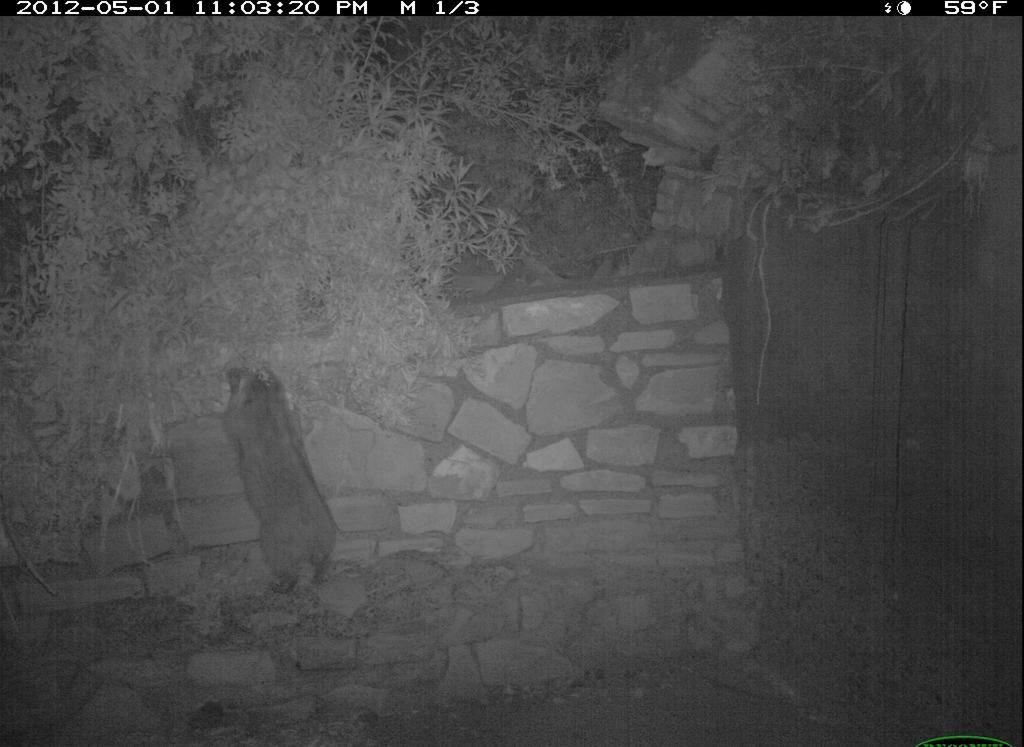raccoon: (205, 346, 354, 607)
